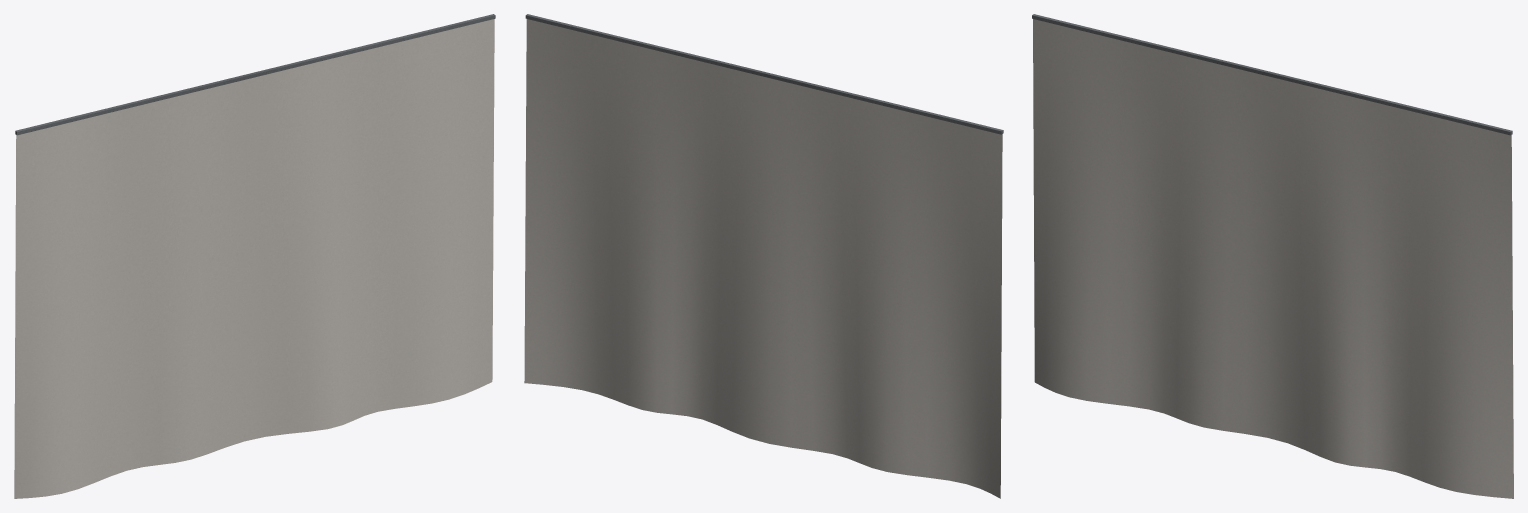
The model's file is Vorhang.fbx.
3 views of the same model, side by side, from view 1: azimuth 30°, elevation 25°; view 2: azimuth 150°, elevation 25°; view 3: azimuth 330°, elevation 25° (orthographic).
Visible parts, largest first — view 1: Vorhang, Schiene_1; view 2: Vorhang, Schiene_1; view 3: Vorhang, Schiene_1.
Boxes of the visible parts, x1,y1,x2,y2 form: Vorhang: [14, 19, 494, 498]; Schiene_1: [15, 14, 495, 135]; Vorhang: [524, 19, 1002, 498]; Schiene_1: [525, 14, 1003, 134]; Vorhang: [1033, 19, 1513, 498]; Schiene_1: [1032, 14, 1512, 135].
Size of the model in its own units: 300 by 221 by 9.03.
1 material, 1 textured.
